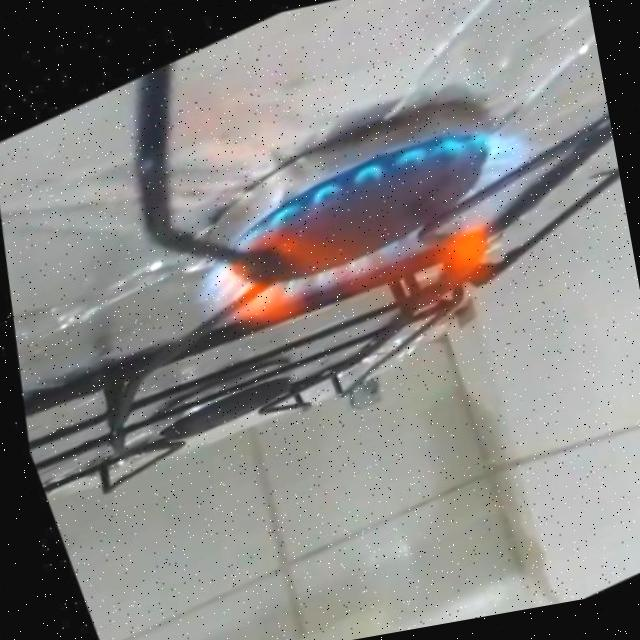fire: (144, 72, 608, 412)
